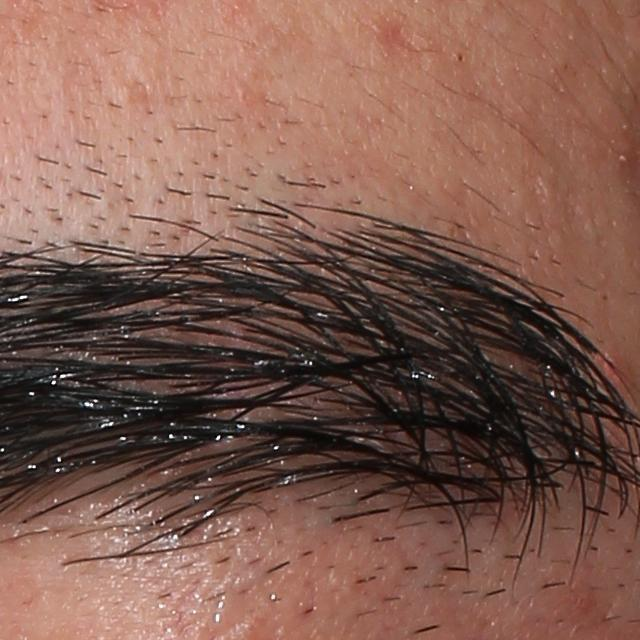comedo: (454, 48, 470, 65)
